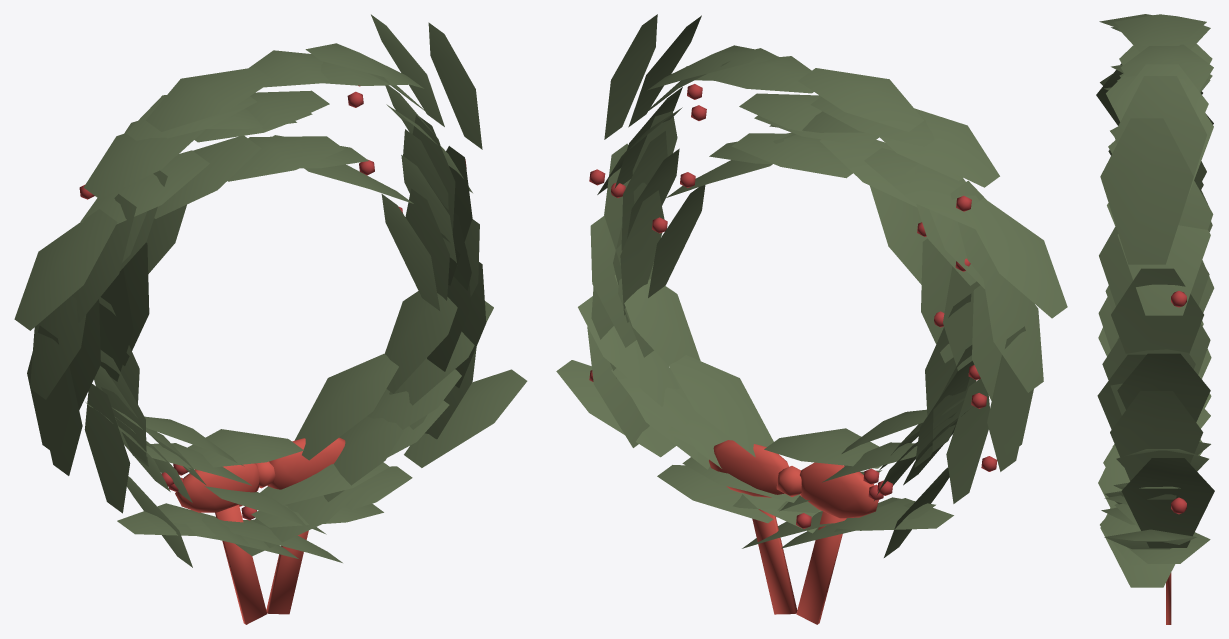
Rendered from wreath.glb.
3 renders of one model, left to right at view 1: azimuth 30°, elevation 25°; view 2: azimuth 150°, elevation 25°; view 3: azimuth 270°, elevation 25°, orthographic. The views are drawn at different scales.
Parts seen in each view (by area): view 1: wreath; view 2: wreath; view 3: wreath.
Boxes of the visible parts, x1=… form: wreath: x1=14, y1=14, x2=527, y2=624; wreath: x1=556, y1=14, x2=1067, y2=624; wreath: x1=1096, y1=14, x2=1214, y2=624.
Size of the model in its own units: 1.14 by 1.26 by 0.2289.
